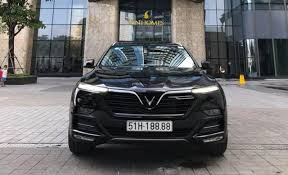Car number plates: (127, 120, 173, 133)
